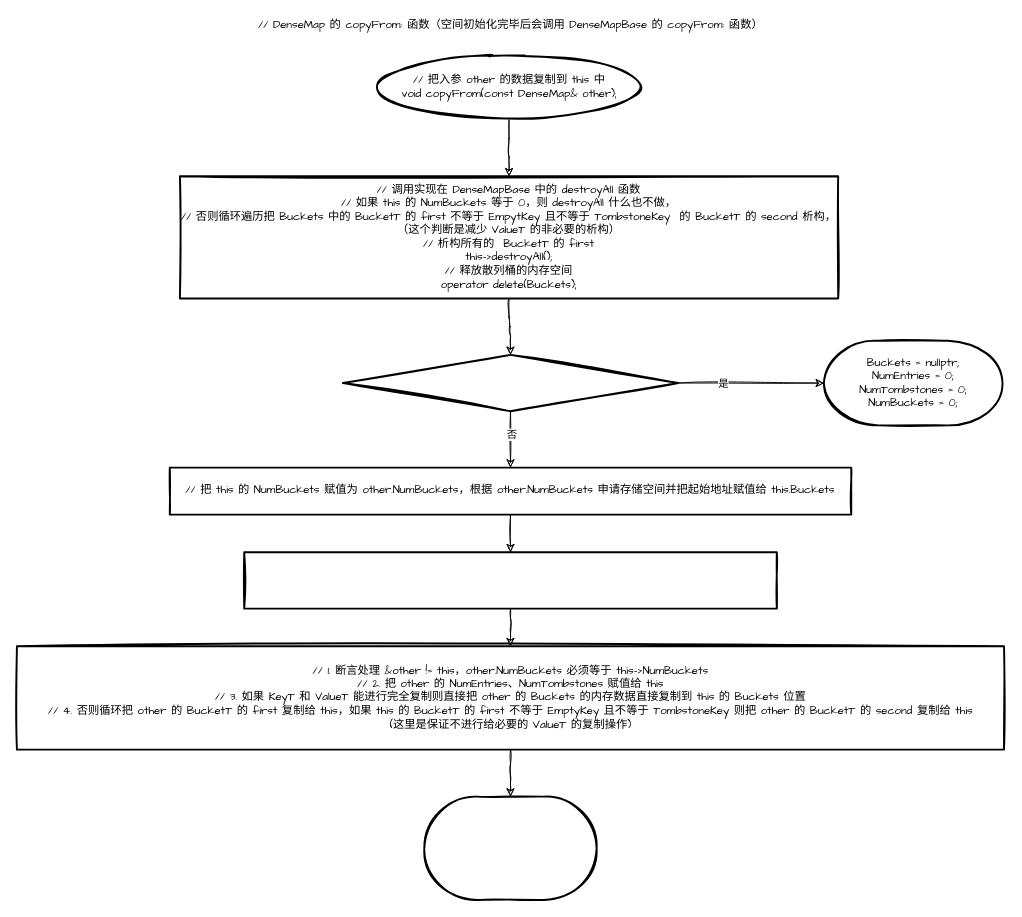
This 1022x917 diagram has some shape labels left out. The centre of each missing label's shape, as x and y in pixels:
"// 调用 BaseT::copyFrom(other)" goes at point (510, 580).
"// 进行了深拷贝，this 的数据内容与 other 相同" goes at point (510, 848).
"other.NumBuckets == 0?" goes at point (510, 382).
